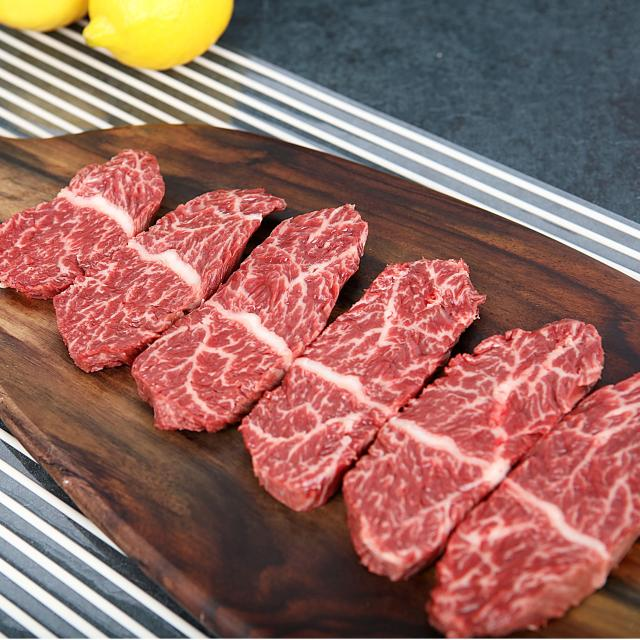beef: (422, 366, 546, 540), (228, 283, 324, 421)
